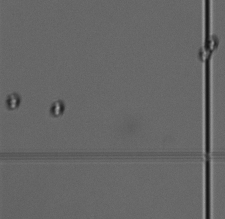Living Cell: (48, 100, 66, 118), (5, 92, 21, 111)
